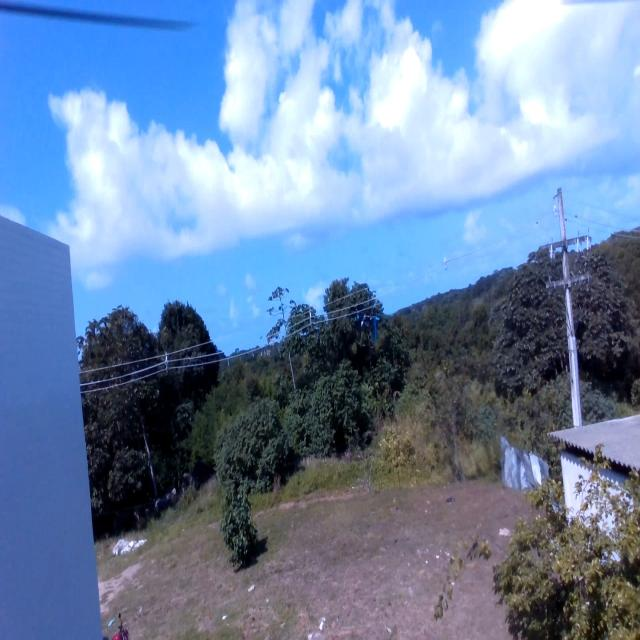-uav-: (345, 293, 387, 350)
